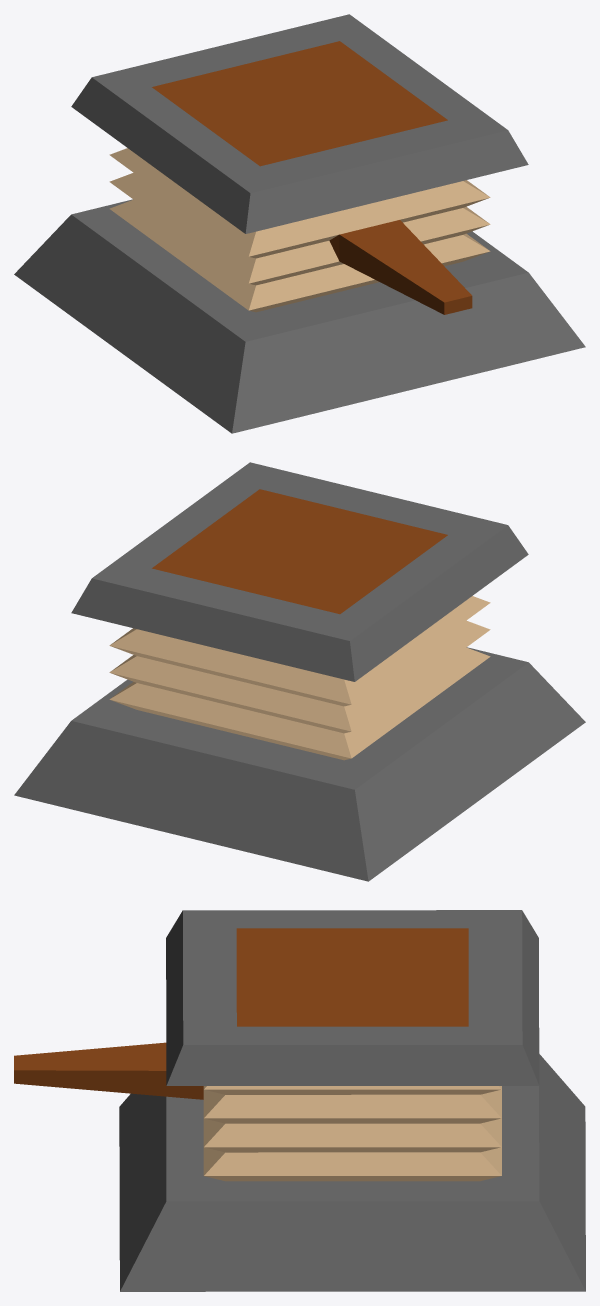
File: Prop_Bellows_02.fbx
The picture shows the model from 3 angles, top to bottom: view 1: azimuth 30°, elevation 25°; view 2: azimuth 150°, elevation 25°; view 3: azimuth 270°, elevation 25°; orthographic projection. The views are drawn at different scales.
Visible parts, largest first — view 1: Prop_Bellows_02; view 2: Prop_Bellows_02; view 3: Prop_Bellows_02.
Part boxes in pixels (bbox=[...]): Prop_Bellows_02: bbox=[14, 14, 585, 433]; Prop_Bellows_02: bbox=[14, 462, 585, 881]; Prop_Bellows_02: bbox=[14, 910, 585, 1291].
Size of the model in its own units: 46.06 by 25.71 by 60.12.
